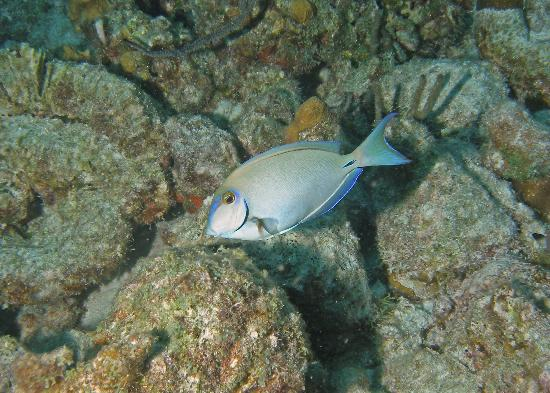Acanthuridae -Surgeonfishes-: (203, 110, 402, 242)
